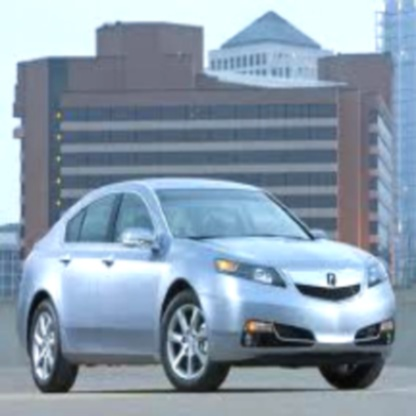Vehicle: (13, 173, 397, 399)
